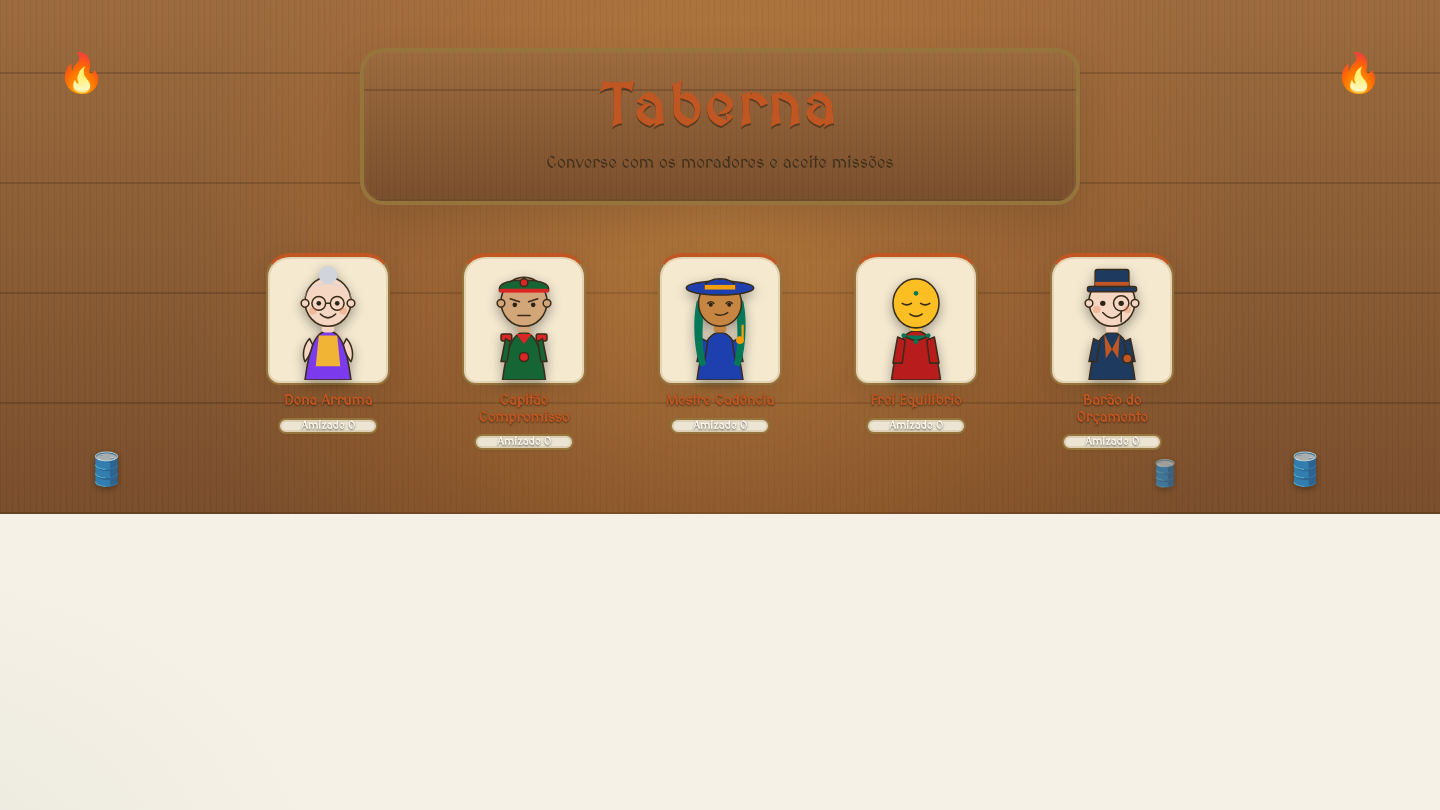
Test: TabernaComponent › should open the npc dialog when a sheet is clicked
This screenshot has width=1440, height=810.
Step 1. Click the 1st button with class "sheet" → (328, 319), box [266,253,390,385]
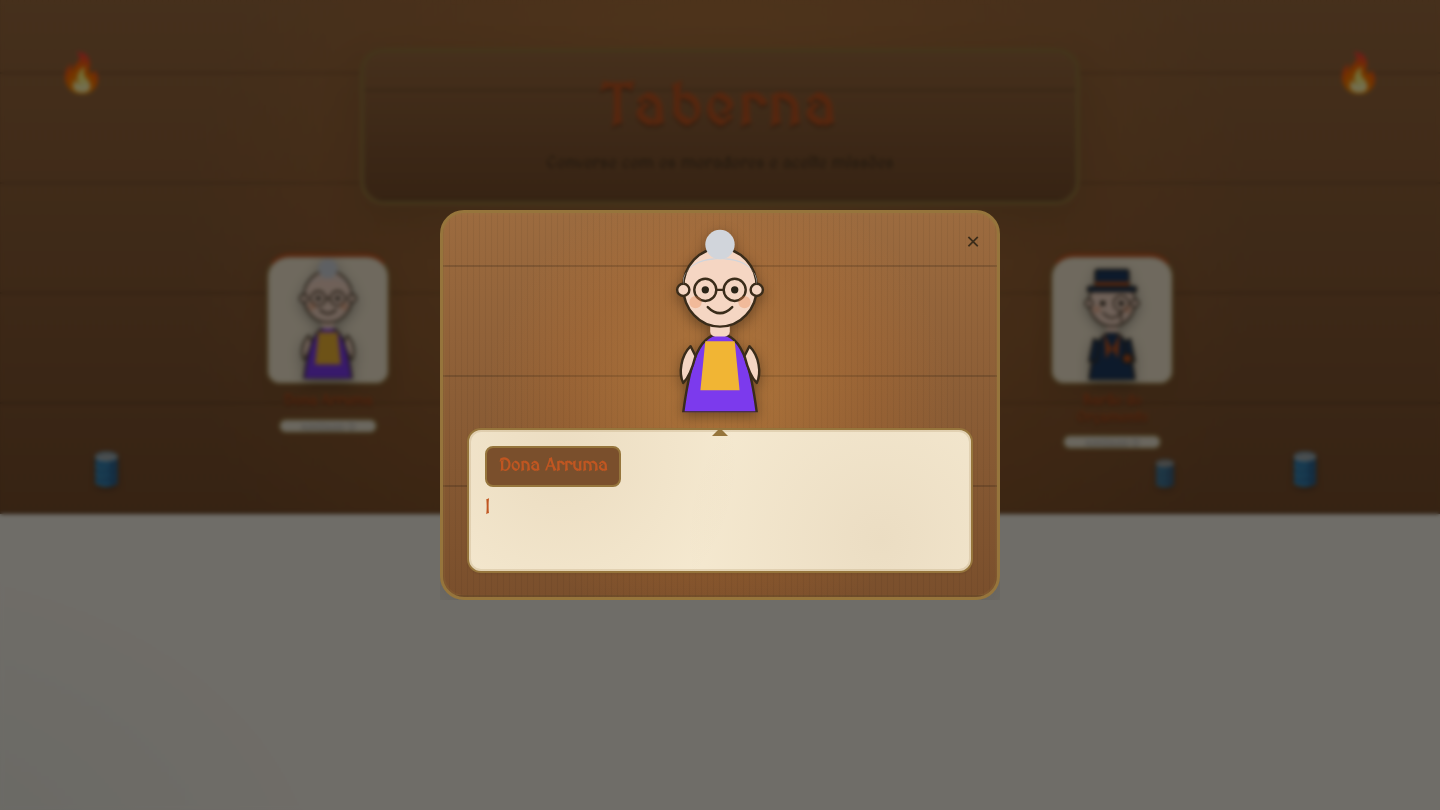
Result: the element showing "Dona Arruma | ×" is shown at [440,210,1000,600]
